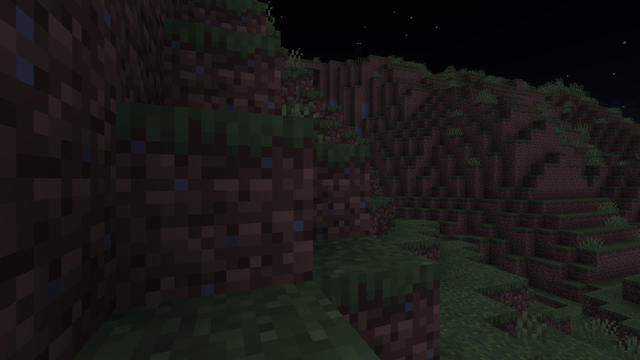endermens: (355, 39, 361, 63)
